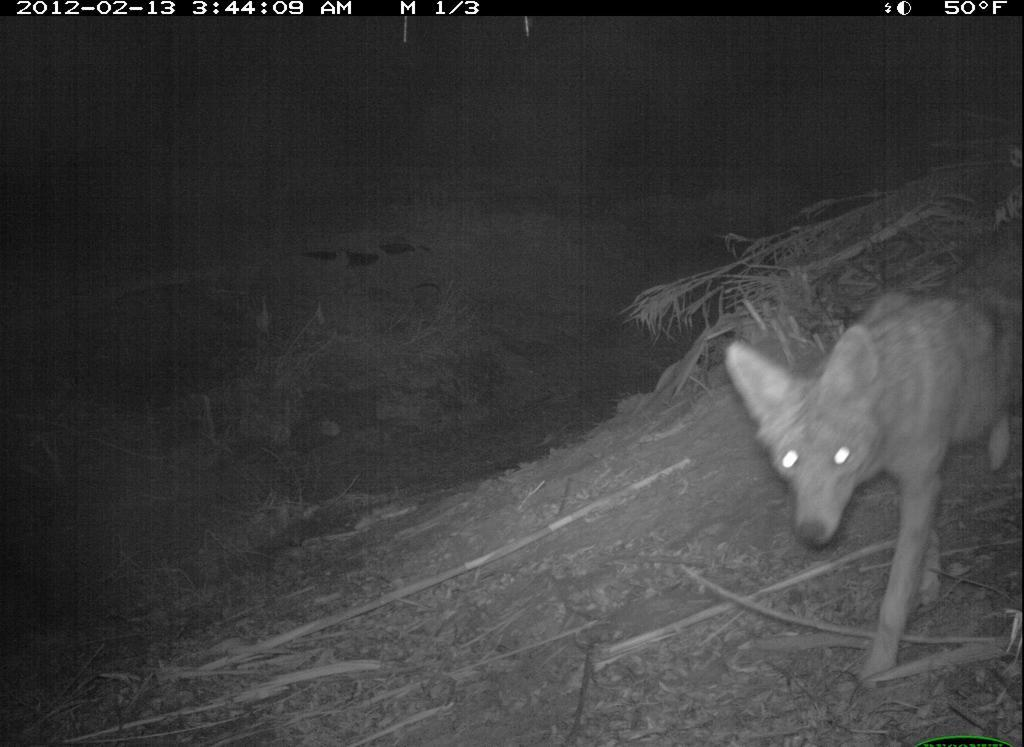coyote: (702, 296, 1023, 697)
